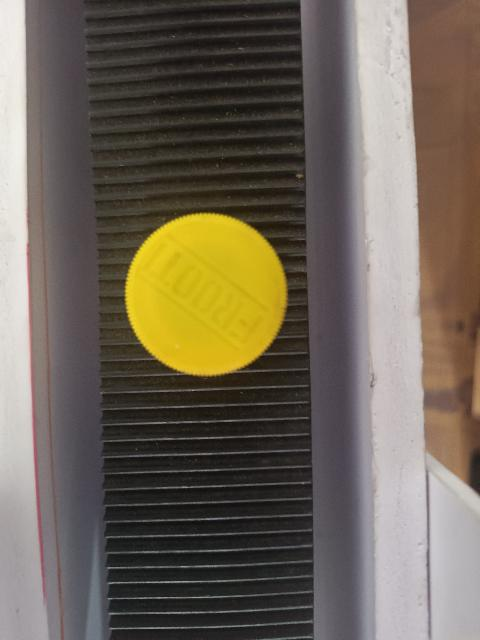bottlecap: (126, 206, 292, 376)
